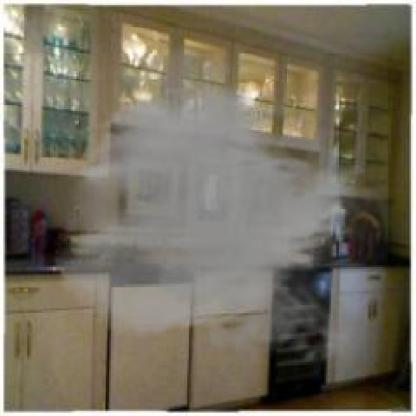Smoke: (52, 39, 388, 374)
